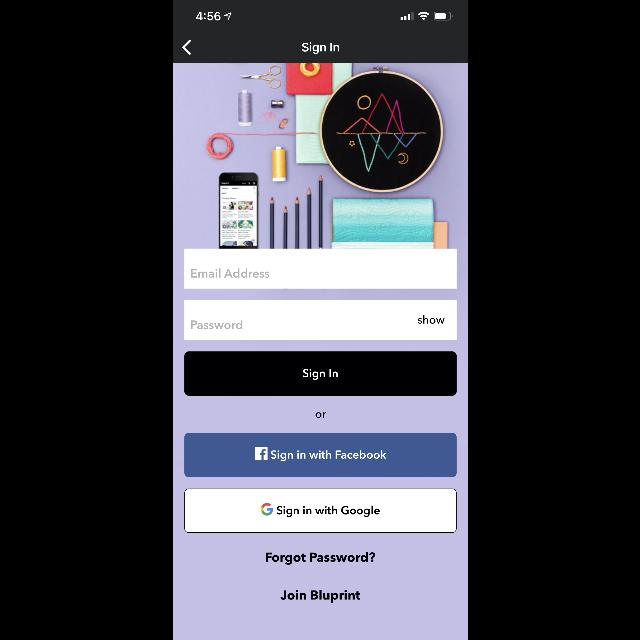backgroundimage: (172, 64, 468, 640)
icon: (182, 40, 190, 54)
input: (184, 300, 456, 340), (184, 249, 456, 289)
text: (266, 552, 374, 564), (280, 590, 360, 602), (190, 268, 268, 278), (302, 42, 338, 54), (190, 320, 242, 328), (418, 314, 444, 324), (315, 412, 325, 418)
textbutton: (184, 489, 456, 533), (184, 433, 456, 477), (184, 352, 456, 396)
uppertaskbar: (196, 12, 452, 20)
